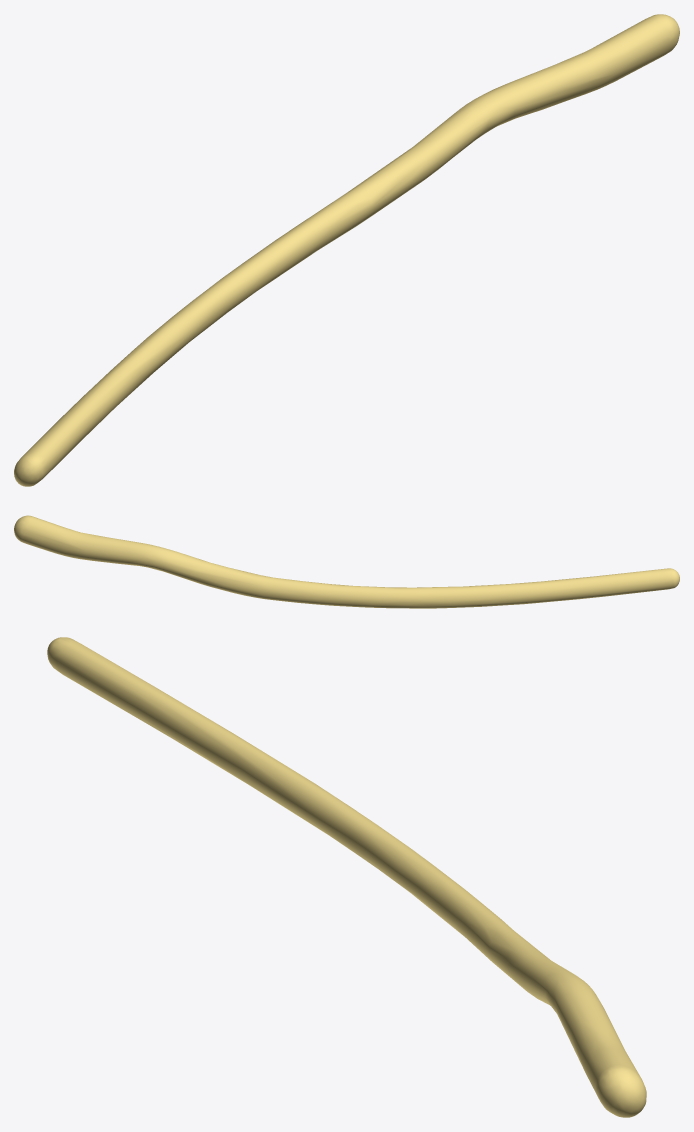
File: fma50890_fj3894.glb
The picture shows the model from 3 angles, top to bottom: view 1: azimuth 30°, elevation 25°; view 2: azimuth 150°, elevation 25°; view 3: azimuth 270°, elevation 25°; orthographic projection. The views are drawn at different scales.
Parts seen in each view (by area): view 1: FMA50890_FJ3894; view 2: FMA50890_FJ3894; view 3: FMA50890_FJ3894.
Part boxes in pixels (x1,y1,x2,y2): FMA50890_FJ3894: [14, 14, 679, 486]; FMA50890_FJ3894: [14, 515, 679, 608]; FMA50890_FJ3894: [47, 637, 646, 1117].
Bounding box in the file's own units: 0.0339 × 0.00346 × 0.0168.
